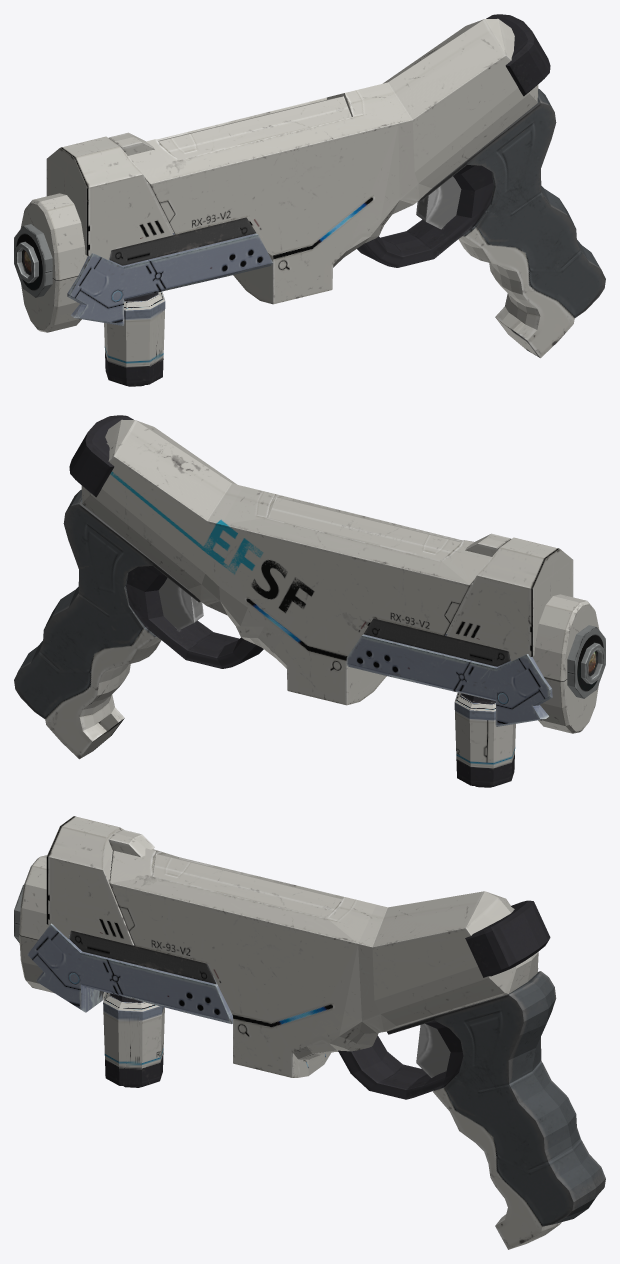
The model's file is gun.fbx.
3 renders of one model, top to bottom at view 1: azimuth 30°, elevation 25°; view 2: azimuth 150°, elevation 25°; view 3: azimuth 330°, elevation 25°, orthographic.
Parts seen in each view (by area): view 1: gun1; view 2: gun1; view 3: gun1.
Part boxes in pixels (left/top/right/bottom): gun1: left=14, top=14, right=605, bottom=386; gun1: left=14, top=415, right=605, bottom=787; gun1: left=14, top=816, right=605, bottom=1249.
Size of the model in its own units: 60.58 by 34.62 by 7.91.
Materials: 1 (1 with a texture image).
